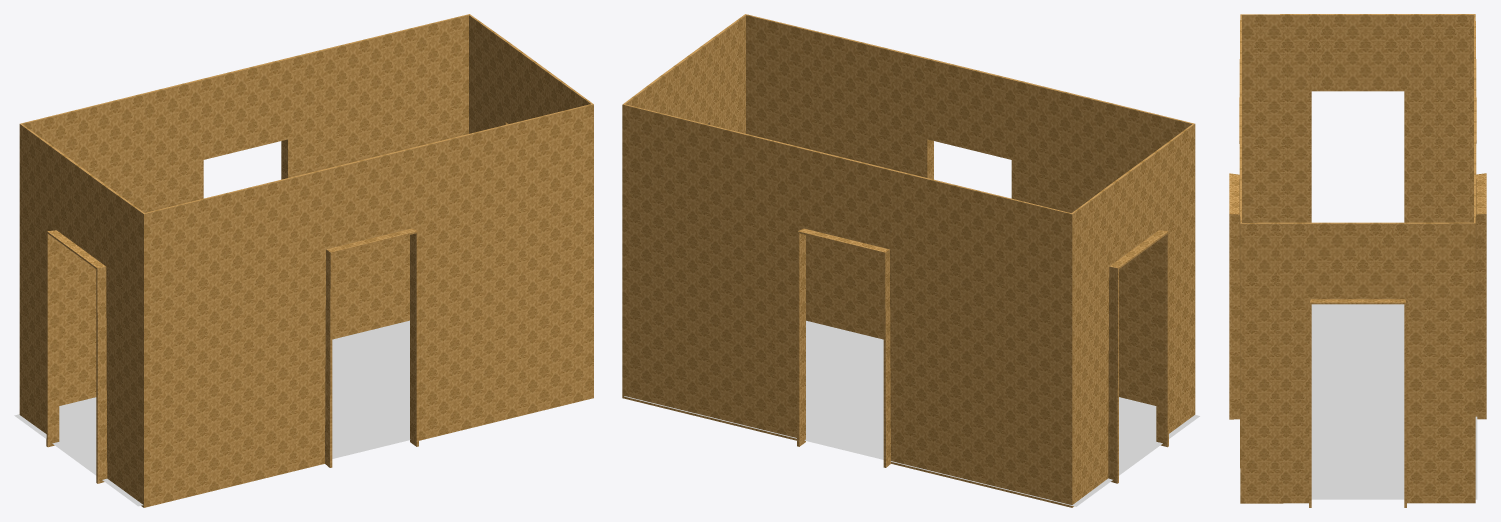
The model's file is Room_Hallway.fbx.
3 renders of one model, left to right at view 1: azimuth 30°, elevation 25°; view 2: azimuth 150°, elevation 25°; view 3: azimuth 270°, elevation 25°, orthographic. The views are drawn at different scales.
Visible parts, largest first — view 1: Walls.004, Plane.015; view 2: Walls.004, Plane.015; view 3: Walls.004, Plane.015.
Part boxes in pixels (x1=…): Walls.004: x1=19, y1=14, x2=593, y2=507; Plane.015: x1=14, y1=320, x2=410, y2=506; Walls.004: x1=622, y1=14, x2=1195, y2=507; Plane.015: x1=624, y1=320, x2=1199, y2=506; Walls.004: x1=1229, y1=14, x2=1486, y2=507; Plane.015: x1=1311, y1=304, x2=1477, y2=499.
Bounding box in the file's own units: 707 × 423 × 352.
Materials: 2 (1 with a texture image).
